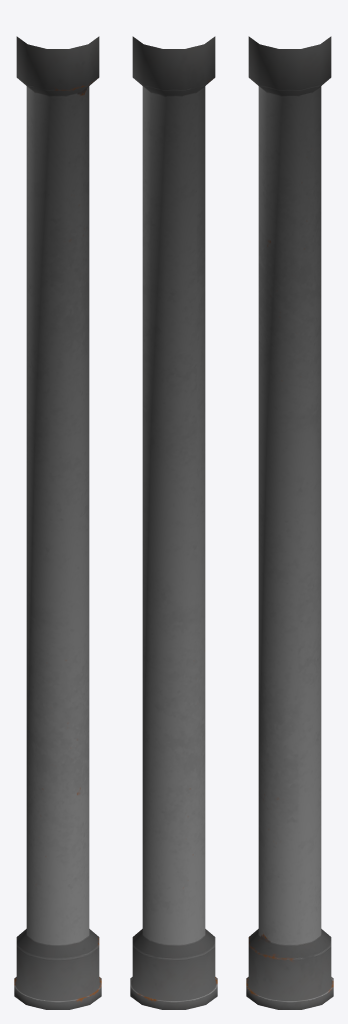
The model's file is SM_Props_GasStation_01.glb.
3 renders of one model, left to right at view 1: azimuth 90°, elevation 25°; view 2: azimuth 150°, elevation 25°; view 3: azimuth 270°, elevation 25°, orthographic.
Visible parts, largest first — view 1: SM_Props_GasStation_01; view 2: SM_Props_GasStation_01; view 3: SM_Props_GasStation_01.
Boxes of the visible parts, x1=… form: SM_Props_GasStation_01: x1=14, y1=36, x2=101, y2=1009; SM_Props_GasStation_01: x1=130, y1=36, x2=217, y2=1009; SM_Props_GasStation_01: x1=246, y1=36, x2=333, y2=1009.
Bounding box in the file's own units: 0.3555 × 4.33 × 0.3555.
1 material, 1 textured.
